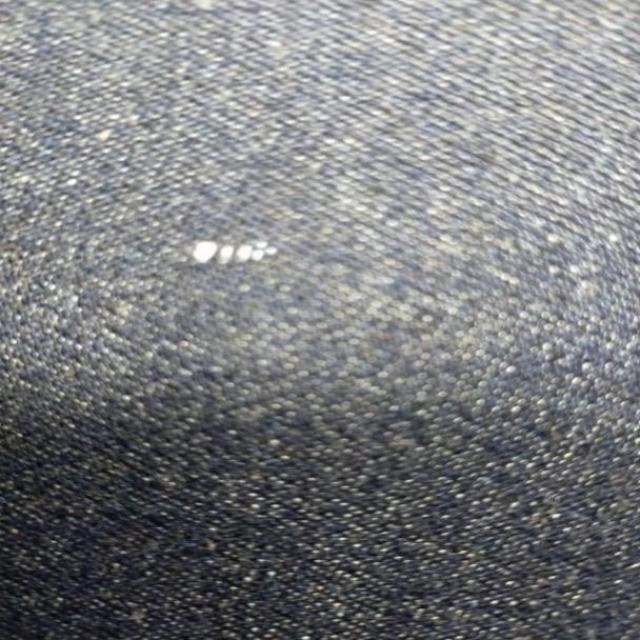Knot: (191, 241, 278, 265)
